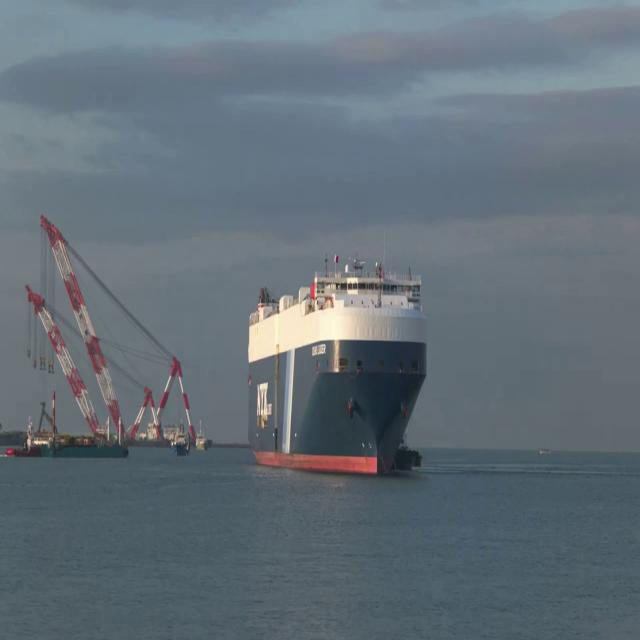OCR: (255, 379, 274, 422), (309, 342, 326, 360)
